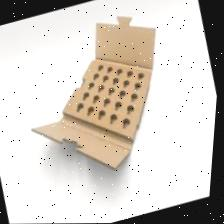cardboard: (12, 5, 202, 188)
